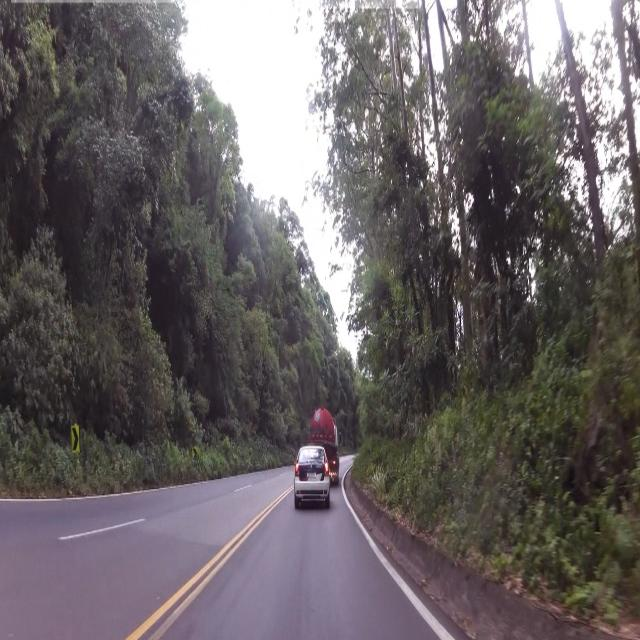Del: (68, 422, 80, 452)
